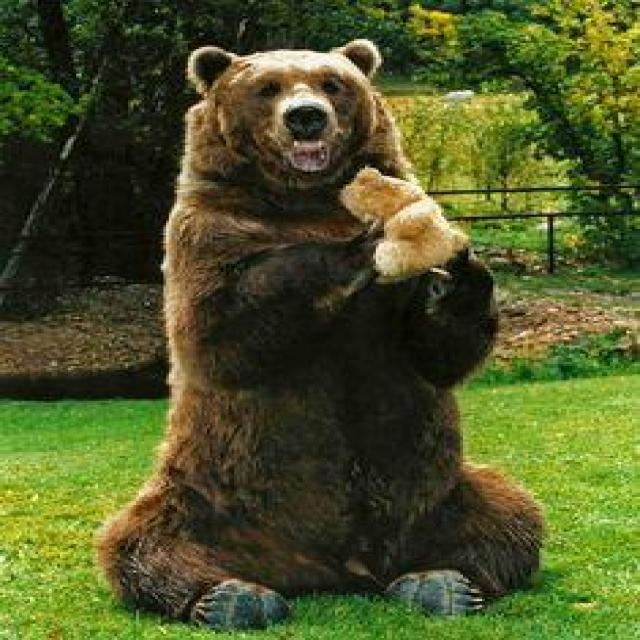Bear: (93, 39, 545, 632)
